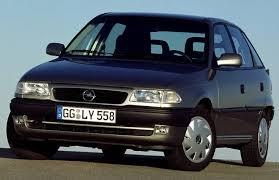opel: (79, 89, 97, 102)
